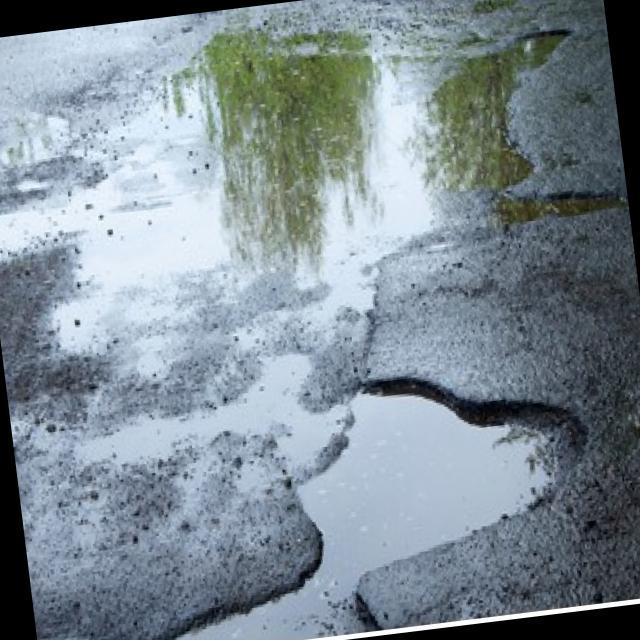Pothole: (277, 346, 609, 594)
